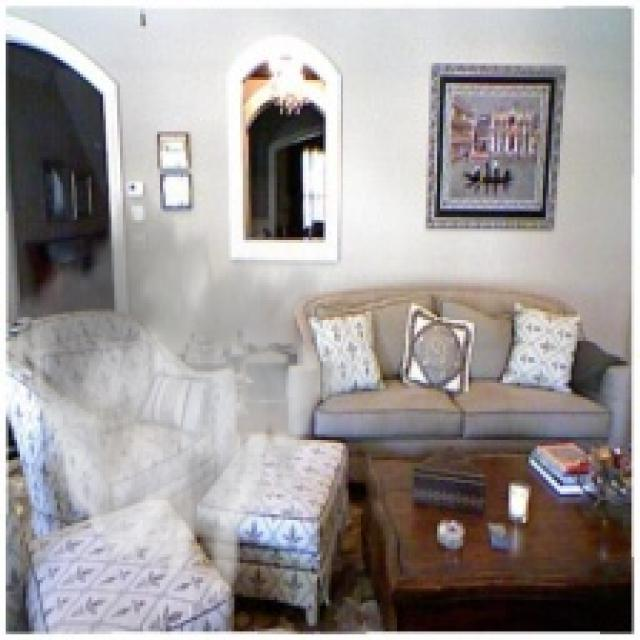smoke: (6, 189, 354, 614)
